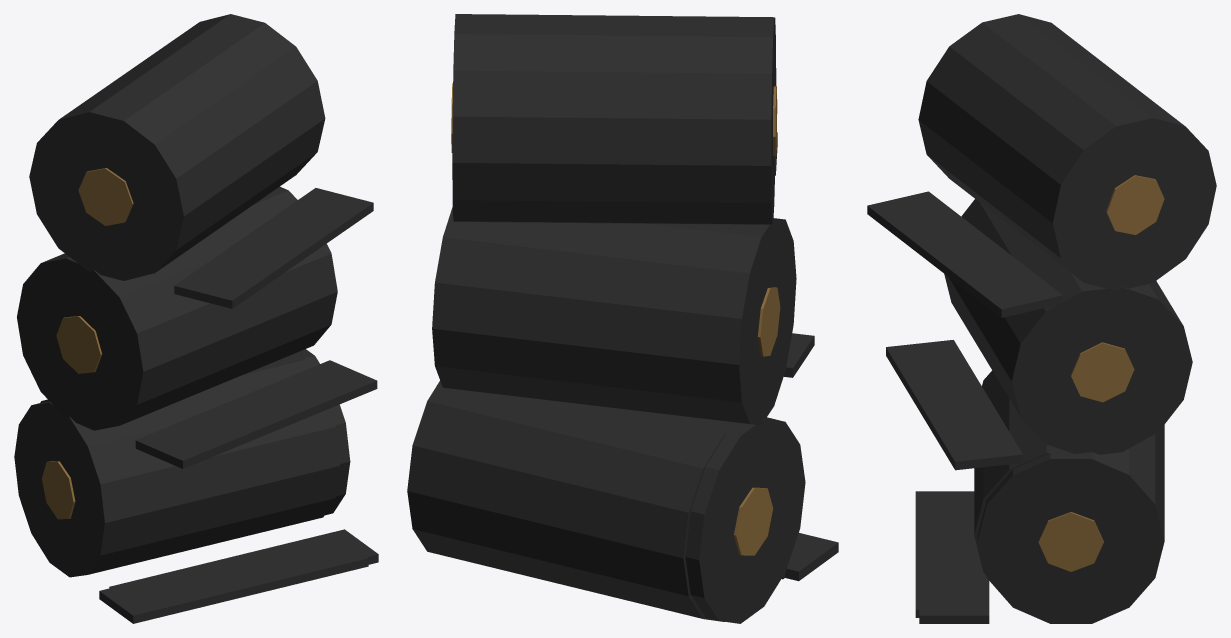
Rendered from Proc_Rubber.fbx.
The picture shows the model from 3 angles, left to right: view 1: azimuth 30°, elevation 25°; view 2: azimuth 150°, elevation 25°; view 3: azimuth 270°, elevation 25°; orthographic projection. The views are drawn at different scales.
Visible parts, largest first — view 1: Proc_Rubber__Stack, Proc_Rubber; view 2: Proc_Rubber__Stack, Proc_Rubber; view 3: Proc_Rubber__Stack, Proc_Rubber.
Part boxes in pixels (bbox=[...]): Proc_Rubber__Stack: bbox=[14, 14, 377, 623]; Proc_Rubber: bbox=[40, 349, 378, 611]; Proc_Rubber__Stack: bbox=[432, 14, 838, 623]; Proc_Rubber: bbox=[407, 380, 822, 621]; Proc_Rubber__Stack: bbox=[867, 14, 1216, 617]; Proc_Rubber: bbox=[919, 425, 1164, 623].
Size of the model in its own units: 0.1556 by 0.2309 by 0.1497.
